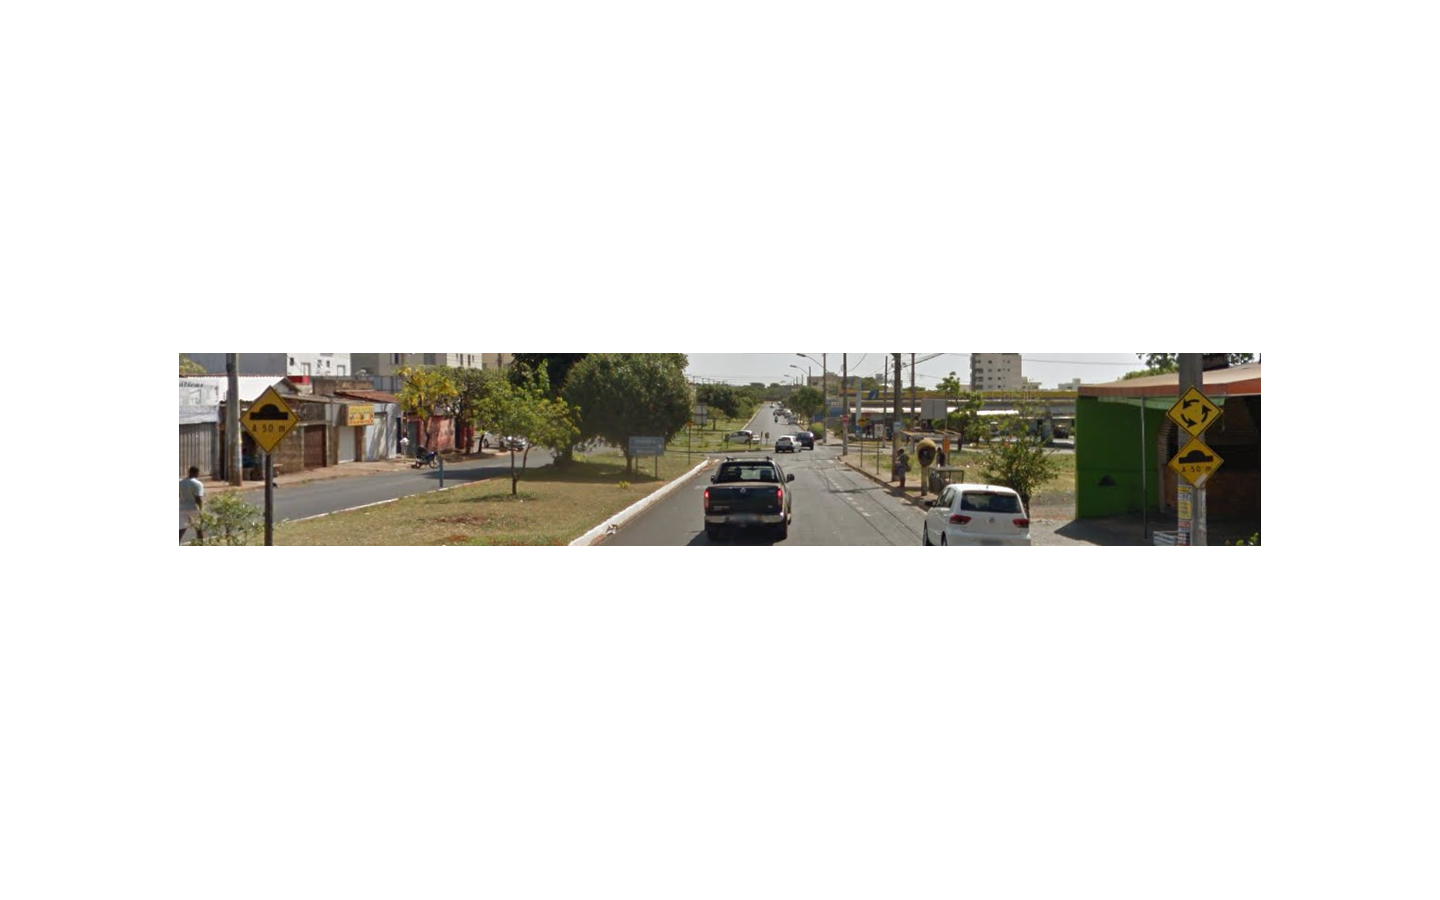l50m: (238, 385, 299, 455), (1167, 435, 1224, 491)
